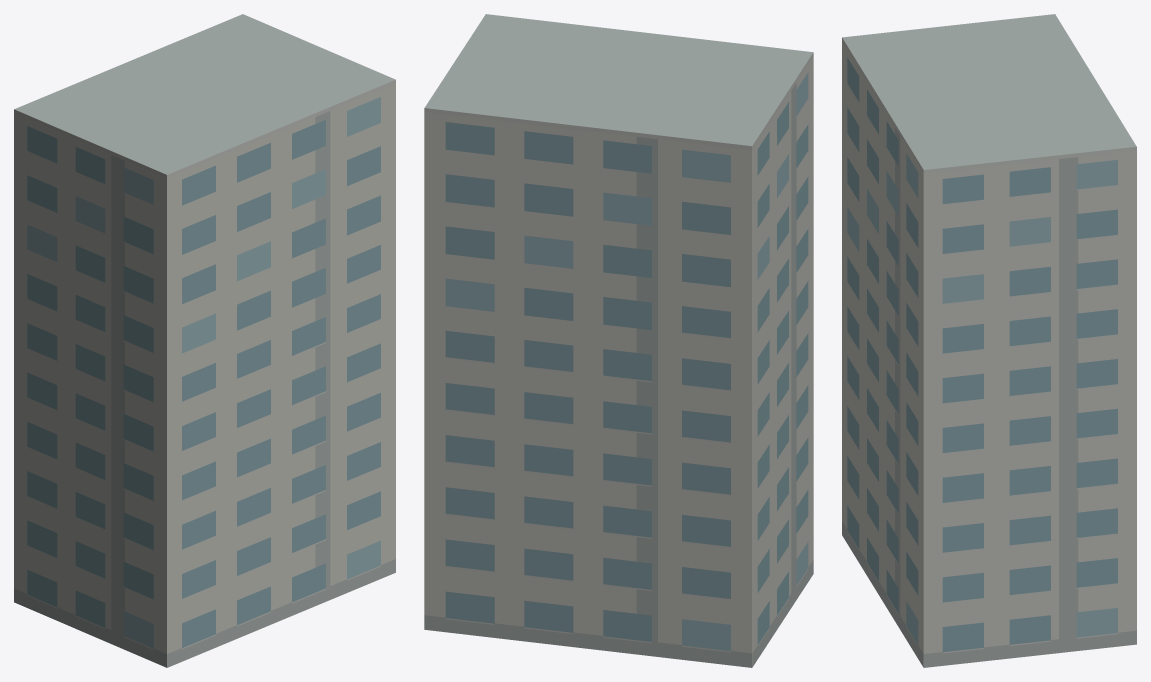
Rendered from residential-80113f8b-e86c-44e4-9446-2030d8ffd563.glb.
3 renders of one model, left to right at view 1: azimuth 30°, elevation 25°; view 2: azimuth 150°, elevation 25°; view 3: azimuth 270°, elevation 25°, orthographic. The views are drawn at different scales.
Visible parts, largest first — view 1: residential-80113f8b-e86c-44e4-9446-2030d8ffd563.tmp; view 2: residential-80113f8b-e86c-44e4-9446-2030d8ffd563.tmp; view 3: residential-80113f8b-e86c-44e4-9446-2030d8ffd563.tmp.
Boxes of the visible parts, left/top/right/bottom form: residential-80113f8b-e86c-44e4-9446-2030d8ffd563.tmp: left=14, top=14, right=395, bottom=667; residential-80113f8b-e86c-44e4-9446-2030d8ffd563.tmp: left=424, top=14, right=813, bottom=667; residential-80113f8b-e86c-44e4-9446-2030d8ffd563.tmp: left=842, top=14, right=1136, bottom=667.
Size of the model in its own units: 20.85 by 31 by 16.64.
